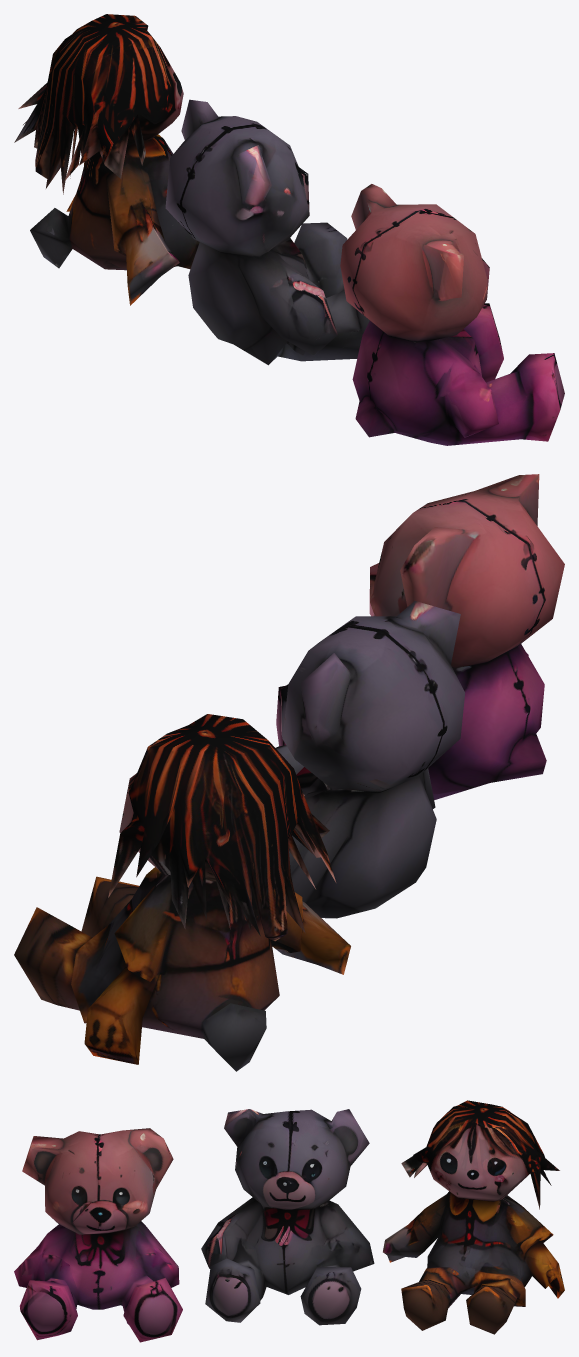
File: plush+teddy+bear+3d+model.obj
3 views of the same model, one above another, from view 1: azimuth 30°, elevation 25°; view 2: azimuth 150°, elevation 25°; view 3: azimuth 270°, elevation 25° (orthographic). The views are drawn at different scales.
Visible parts, largest first — view 1: tripo_node_2b194862-fb4b-49af-890a-b1a8c335cf44; view 2: tripo_node_2b194862-fb4b-49af-890a-b1a8c335cf44; view 3: tripo_node_2b194862-fb4b-49af-890a-b1a8c335cf44.
Boxes of the visible parts, bbox=[...] form: tripo_node_2b194862-fb4b-49af-890a-b1a8c335cf44: bbox=[14, 14, 564, 445]; tripo_node_2b194862-fb4b-49af-890a-b1a8c335cf44: bbox=[14, 474, 564, 1071]; tripo_node_2b194862-fb4b-49af-890a-b1a8c335cf44: bbox=[14, 1100, 564, 1342].
Size of the model in its own units: 0.3845 by 0.3677 by 0.9983.
1 material, 1 textured.
